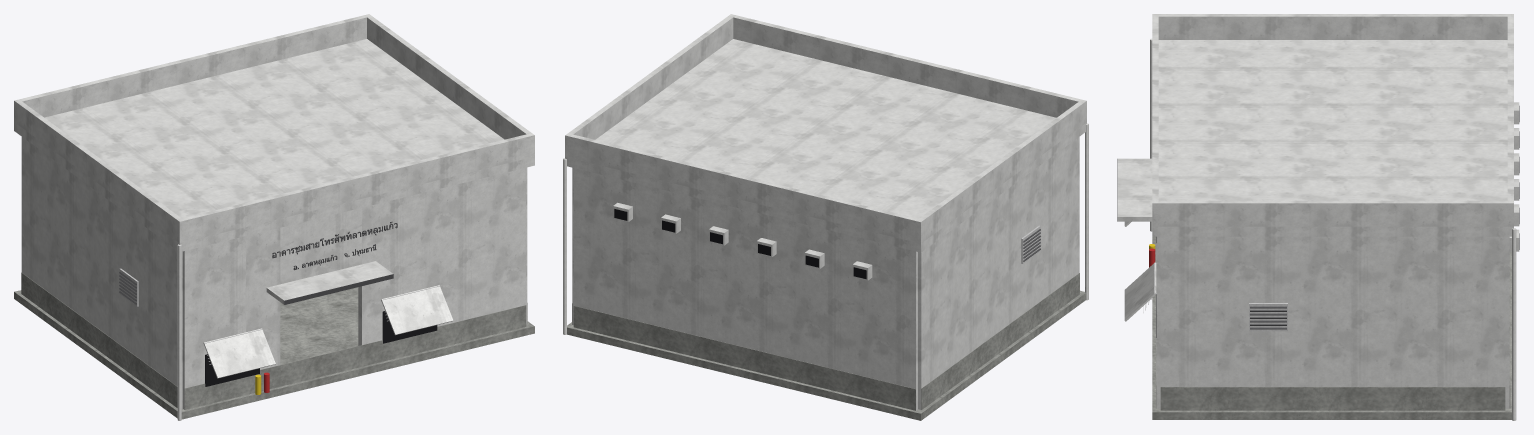
Rendered from D22a_Exchange_Building.fbx.
3 renders of one model, left to right at view 1: azimuth 30°, elevation 25°; view 2: azimuth 150°, elevation 25°; view 3: azimuth 270°, elevation 25°, orthographic. The views are drawn at different scales.
Visible parts, largest first — view 1: Roof_Slab, Side_Wall, Front_Wall_R, Floor_Slab, Parapet, Parapet.001, Front_Wall_L, Dirt_Front, Parapet.002, Front_Wall_Lintel, Parapet.003, Front_Wall_L2 (+9 smaller); view 2: Roof_Slab, Back_Wall, Side_Wall, Parapet.001, Parapet, Dirt_Back, Floor_Slab, Parapet.002, Parapet.003, Dirt_L, Downpipe.001, Downpipe; view 3: Roof_Slab, Side_Wall.001, Parapet.003, Parapet.002, Dirt_R, Floor_Slab, Canopy, Parapet, Parapet.001, Awning_Shutter_2, Downpipe.001, Side_Louver_1 (+3 smaller).
Part boxes in pixels (<box>): Roof_Slab: <box>14,39,534,251</box>; Side_Wall: <box>21,137,182,408</box>; Front_Wall_R: <box>358,168,525,345</box>; Floor_Slab: <box>14,287,534,419</box>; Parapet: <box>177,133,534,242</box>; Parapet.001: <box>14,14,370,117</box>; Front_Wall_L: <box>182,236,245,409</box>; Dirt_Front: <box>184,305,526,409</box>; Parapet.002: <box>14,99,184,242</box>; Front_Wall_Lintel: <box>280,208,361,284</box>; Parapet.003: <box>364,14,531,139</box>; Front_Wall_L2: <box>246,228,280,369</box>; Roof_Slab: <box>565,39,1086,252</box>; Back_Wall: <box>574,168,917,410</box>; Side_Wall: <box>918,137,1079,409</box>; Parapet.001: <box>565,134,923,243</box>; Parapet: <box>729,14,1086,117</box>; Dirt_Back: <box>573,306,915,410</box>; Floor_Slab: <box>567,290,1085,420</box>; Parapet.002: <box>915,100,1086,243</box>; Parapet.003: <box>565,14,734,139</box>; Dirt_L: <box>921,273,1079,409</box>; Downpipe.001: <box>563,158,566,334</box>; Downpipe: <box>1085,123,1088,300</box>; Roof_Slab: <box>1152,40,1513,236</box>; Side_Wall.001: <box>1160,236,1505,386</box>; Parapet.003: <box>1152,200,1513,226</box>; Parapet.002: <box>1152,14,1513,39</box>; Dirt_R: <box>1160,387,1505,410</box>; Floor_Slab: <box>1152,236,1511,419</box>; Canopy: <box>1117,158,1152,221</box>; Parapet: <box>1152,14,1158,226</box>; Parapet.001: <box>1507,14,1513,226</box>; Awning_Shutter_2: <box>1124,262,1156,321</box>; Downpipe.001: <box>1512,228,1516,420</box>; Side_Louver_1: <box>1249,303,1287,331</box>.
Bounding box in the file's own units: 10.5 × 5.55 × 9.34.
Materials: 9 (5 with a texture image).
